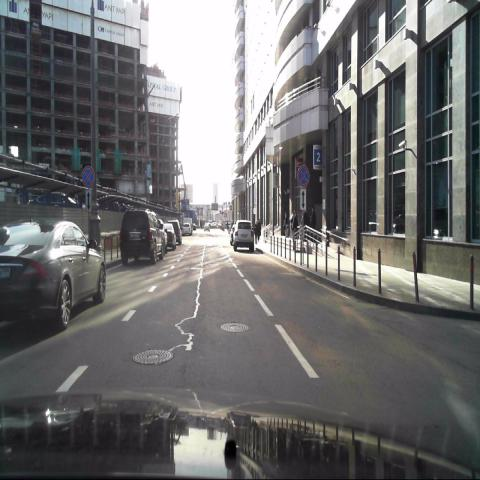3_27: (296, 164, 310, 188)
